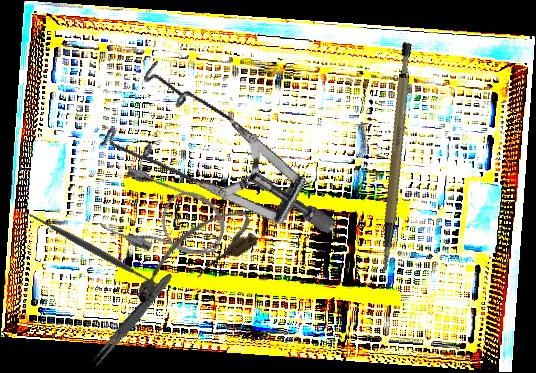Cannula: (122, 200, 263, 312), (98, 164, 234, 273)
Dressing Forceps: (88, 270, 176, 371)
Scalpel Handle: (344, 41, 443, 274)
Spatula Surgical: (18, 202, 169, 296)
Speculum: (78, 21, 339, 308)
